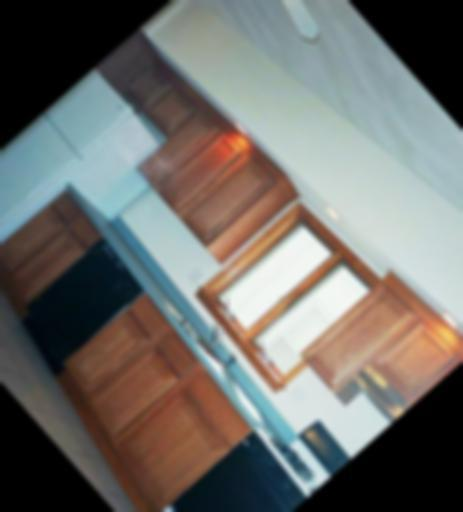Electrodomestico: (0, 72, 141, 263), (139, 409, 336, 512), (12, 242, 150, 374)
Lavamanos: (155, 284, 243, 376)
